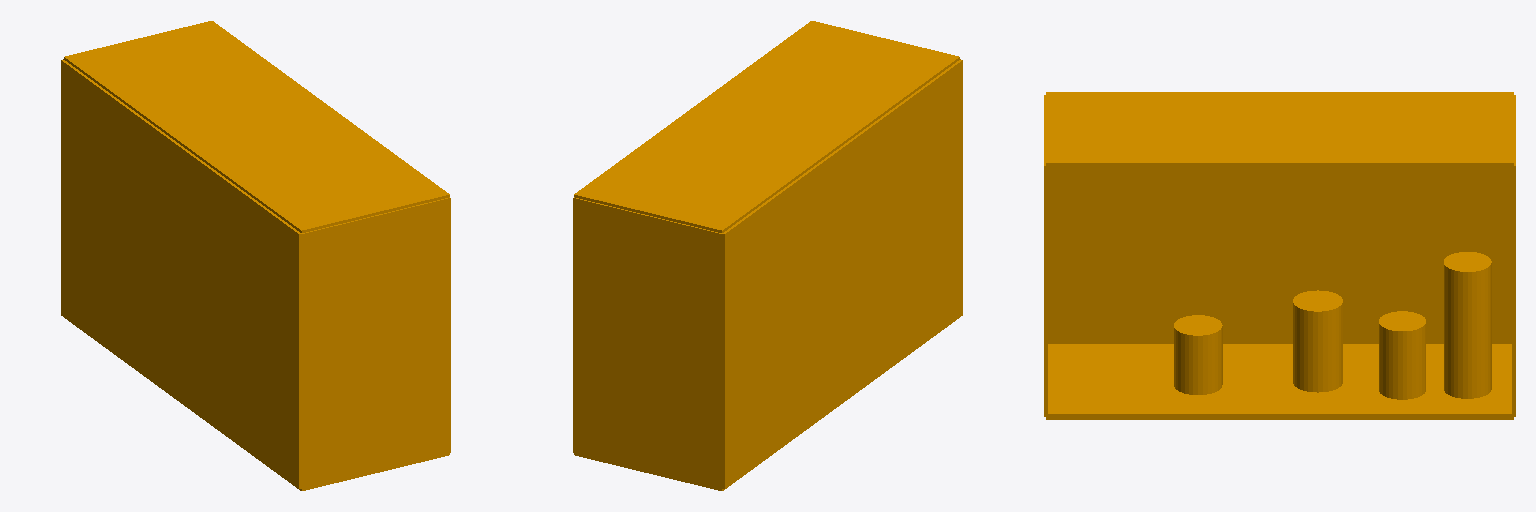
robot.urdf — syn_can_cabinet_463:
<?xml version="1.0" ?>
<robot name="syn_can_cabinet_463">
    <link concave="yes" name="base_link">
        <inertial>
            <origin rpy="0 0 0" xyz="0 0 0"/>
            <mass value="0.0"/>
            <inertia ixx="1e-08" ixy="0" ixz="0" iyy="1e-08" iyz="0" izz="1e-08"/>
        </inertial>
        <visual>
            <origin xyz="0 0 0" rpy="0 0 0" />
            <geometry>
                <mesh filename="syn_can_cabinet_463.obj" scale="1.000000 1.000000 1.000000"/>
            </geometry>         
        </visual>

        <collision concave="yes">
            <origin xyz="0 0 0" rpy="0 0 0"/>
            <geometry>
                <mesh filename="syn_can_cabinet_463.obj" scale="1.000000 1.000000 1.000000"/>
            </geometry>
        </collision>
    </link>
</robot>
    

--- What the picture shows (computed from the rendered views, not written in the file) ---
The picture shows the robot from 3 angles, left to right: view 1: azimuth 30°, elevation 25°; view 2: azimuth 150°, elevation 25°; view 3: azimuth 270°, elevation 25°; orthographic projection.
Model syn_can_cabinet_463 with 1 links and 0 joints (none), rooted at base_link, posed every joint at zero.
Links seen in each view (by area): view 1: base_link; view 2: base_link; view 3: base_link.
Boxes of the visible links, x1,y1,x2,y2 form: base_link: [61, 21, 450, 490]; base_link: [573, 21, 962, 490]; base_link: [1044, 92, 1515, 419].
Bounding box of the posed robot: 0.1742 × 0.478 × 0.2874 m (x, y, z).
Meshes: 1 distinct files referenced, 1 mesh visuals loaded (1 OBJ).
